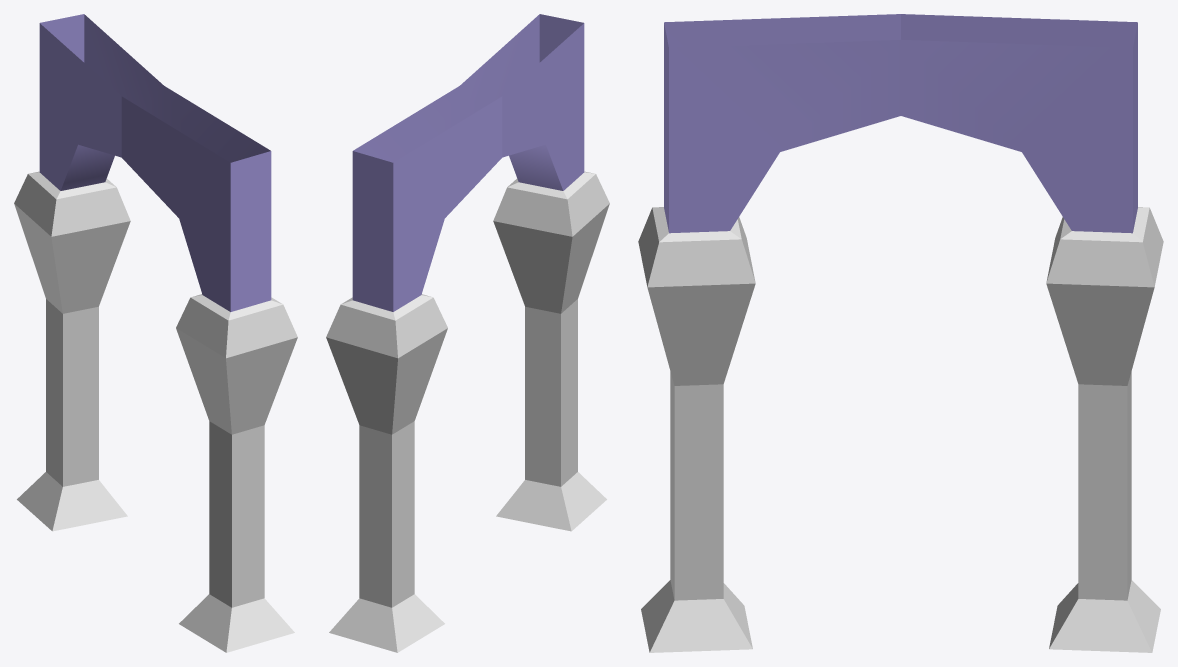
The model's file is Gate Pillars collider.fbx.
3 renders of one model, left to right at view 1: azimuth 30°, elevation 25°; view 2: azimuth 150°, elevation 25°; view 3: azimuth 270°, elevation 25°, orthographic. The views are drawn at different scales.
Parts seen in each view (by area): view 1: Gate Pillars collider; view 2: Gate Pillars collider; view 3: Gate Pillars collider.
Boxes of the visible parts, x1,y1,x2,y2 form: Gate Pillars collider: (14, 14, 297, 652); Gate Pillars collider: (326, 14, 609, 652); Gate Pillars collider: (638, 14, 1163, 652).
Bounding box in the file's own units: 133 × 743 × 595.
